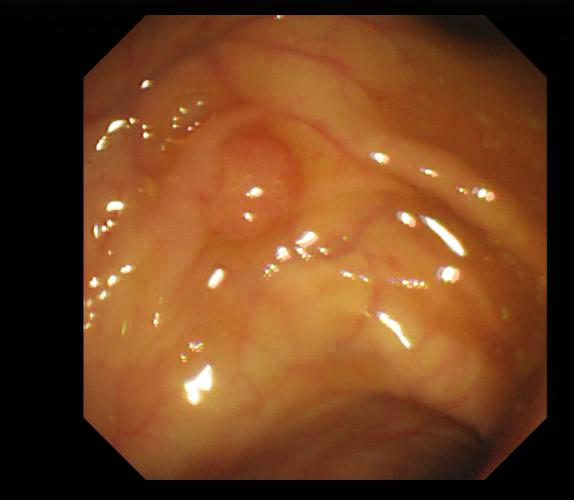polyp: (205, 125, 301, 244)
